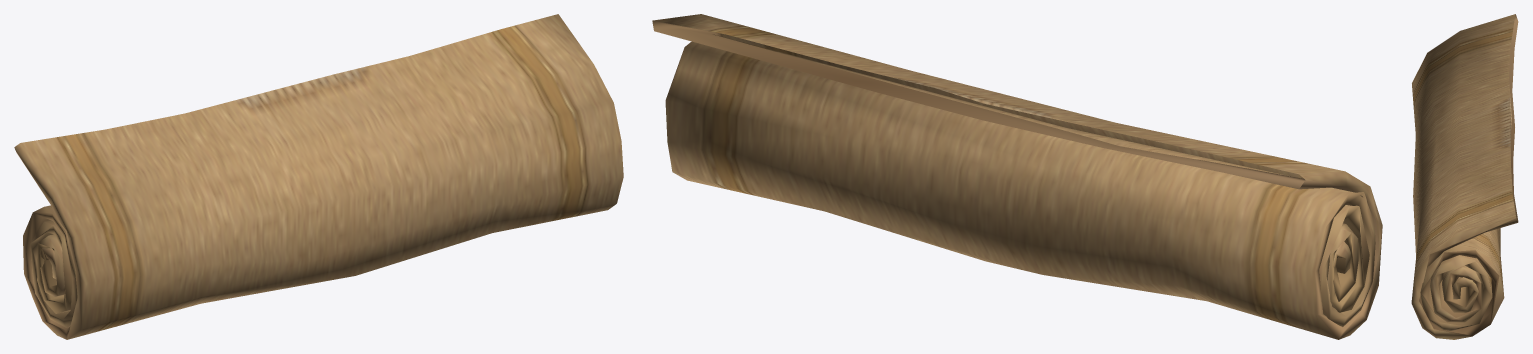
The model's file is tent_reto_fuckedupUVs_rolledupdoor.fbx.
3 views of the same model, side by side, from view 1: azimuth 30°, elevation 25°; view 2: azimuth 150°, elevation 25°; view 3: azimuth 270°, elevation 25° (orthographic). The views are drawn at different scales.
Visible parts, largest first — view 1: Military_tent.005; view 2: Military_tent.005; view 3: Military_tent.005.
Part boxes in pixels (<box>): Military_tent.005: <box>14,14,623,339</box>; Military_tent.005: <box>652,14,1382,339</box>; Military_tent.005: <box>1411,14,1518,339</box>.
Size of the model in its own units: 118 by 35.07 by 26.06.
Materials: 1 (1 with a texture image).
